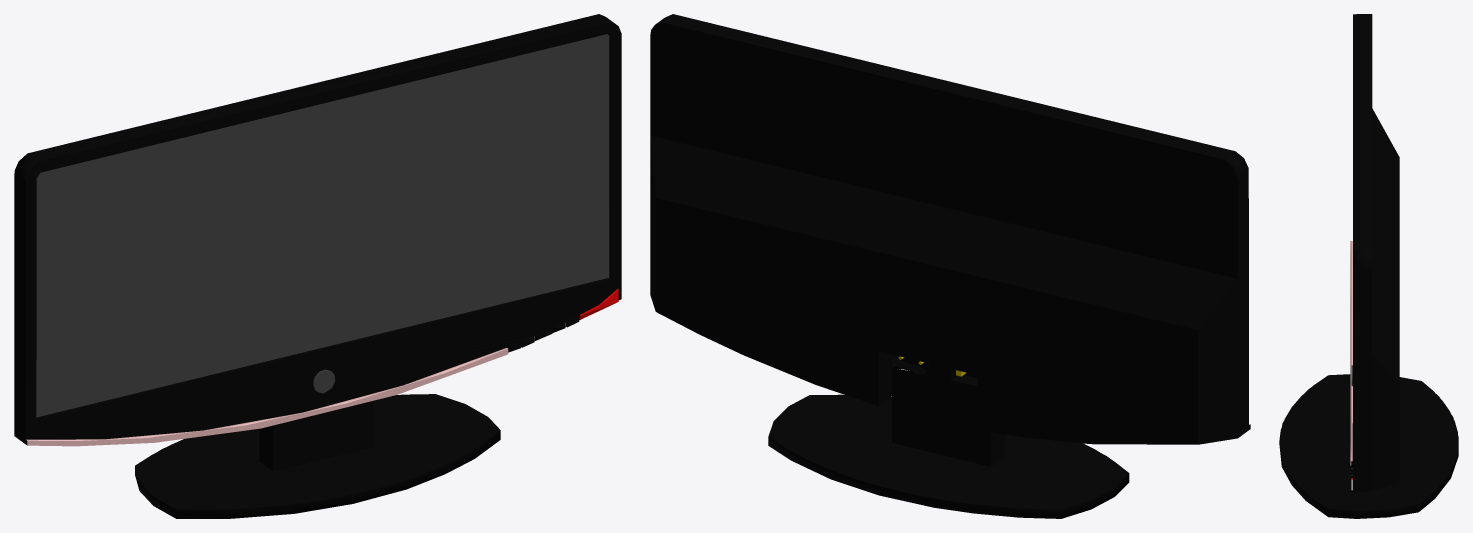
File: computer_screen_collision.dae
3 renders of one model, left to right at view 1: azimuth 30°, elevation 25°; view 2: azimuth 150°, elevation 25°; view 3: azimuth 270°, elevation 25°, orthographic. The views are drawn at different scales.
Parts seen in each view (by area): view 1: Layer0_001; view 2: Layer0_001; view 3: Layer0_001.
Part boxes in pixels (<box>): Layer0_001: <box>14,14,621,518</box>; Layer0_001: <box>650,14,1250,518</box>; Layer0_001: <box>1279,14,1458,518</box>.
Bounding box in the file's own units: 6.62 × 2.04 × 4.
